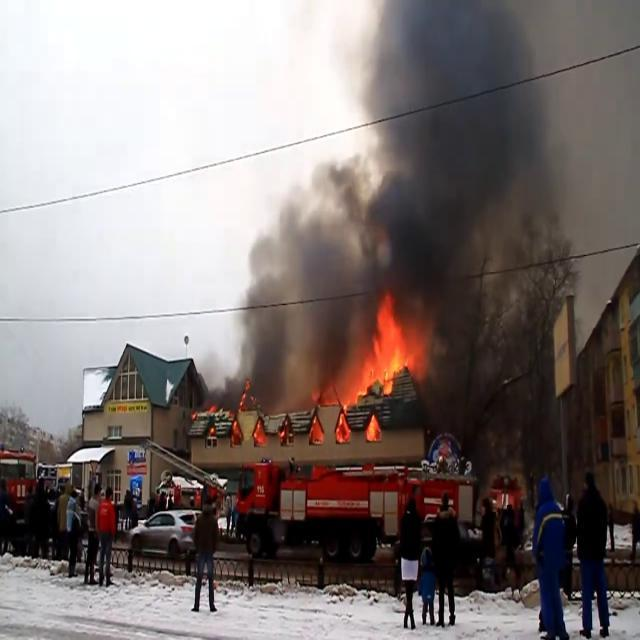Fire: (353, 296, 423, 394)
Smoke: (226, 1, 574, 393)
